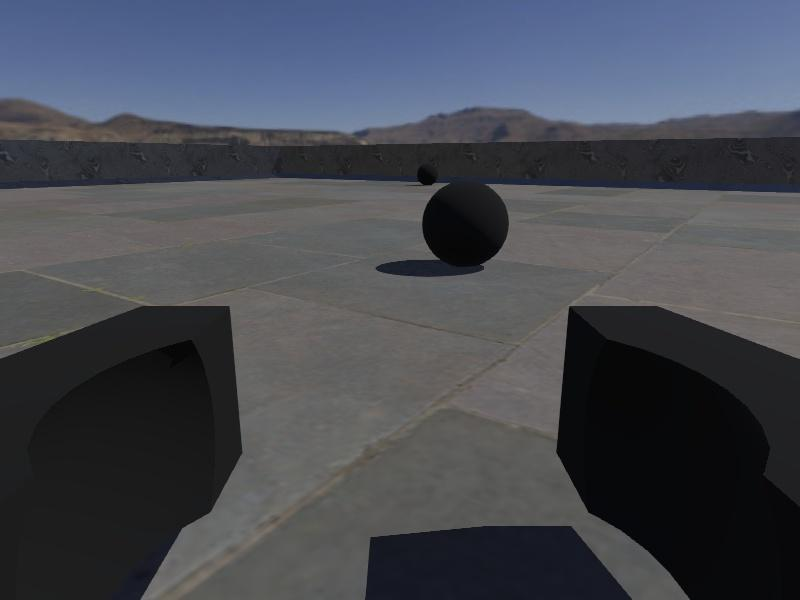black ball: (422, 179, 508, 268), (416, 162, 438, 185)
